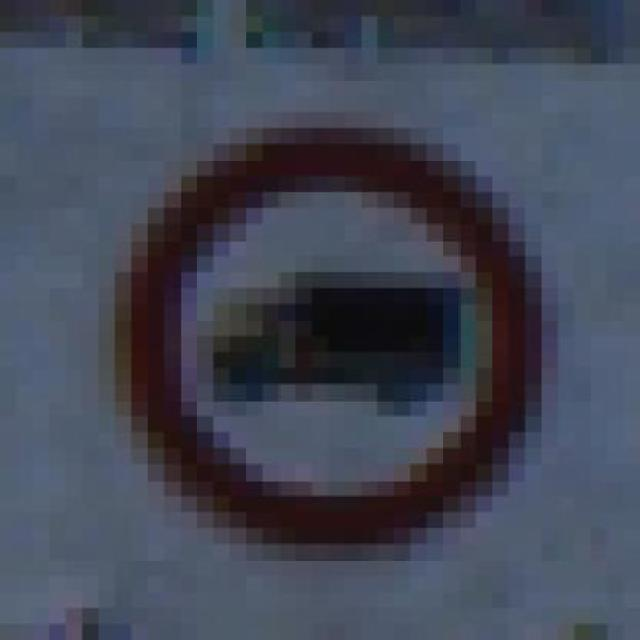Truck traffic is prohibited: (66, 96, 574, 544)
